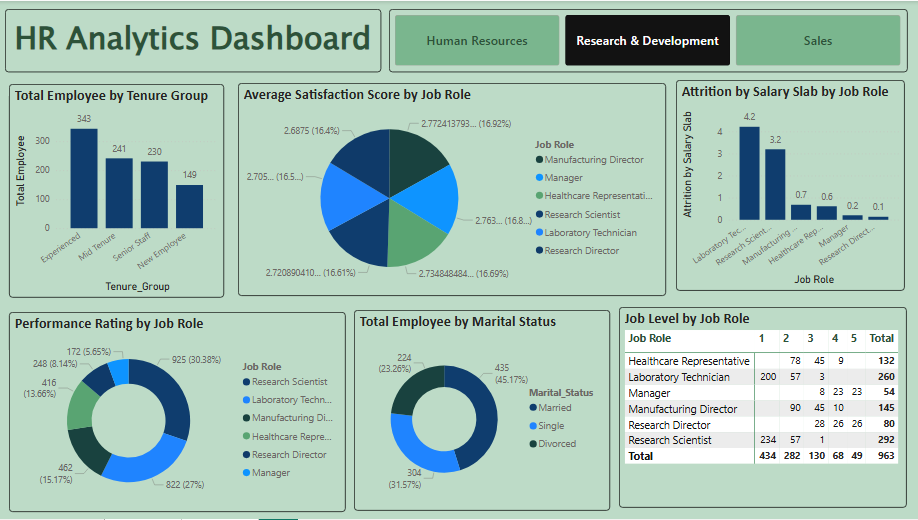

The page's visual inventory and layout, read from the dashboard file:
{"tool":"powerbi","page":{"name":"Page 2","canvas":[1280,720],"ordinal":1},"visuals":[{"type":"textbox","box":[9.7,11.1,522.6,87.6],"z":0},{"type":"clusteredColumnChart","title":"Attrition by Salary Slab by Job Role","fields":{"Category":["HR_Analytics.Job_Role"],"Y":["HR_Analytics.Attrition by Salary Slab"]},"box":[942.4,109.8,318.3,293.3],"z":1000},{"type":"donutChart","title":"Performance Rating by Job Role","fields":{"Category":["HR_Analytics.Job_Role"],"Y":["Sum(HR_Analytics.Performance_Rating)"]},"box":[15.3,432.3,468.4,278],"z":2000},{"type":"pieChart","title":"Average Satisfaction Score by Job  Role","fields":{"Category":["HR_Analytics.Job_Role"],"Y":["HR_Analytics.Average Satisfaction Score"]},"box":[333.6,114,594.9,296.1],"z":3000},{"type":"pivotTable","title":"Job Level by Job  Role","fields":{"Rows":["HR_Analytics.Job_Role"],"Columns":["HR_Analytics.Job_Level"],"Values":["HR_Analytics.Total Employee"]},"box":[863.2,425.3,400.3,279.4],"z":4000},{"type":"clusteredColumnChart","title":"Total Employee by Tenure Group","fields":{"Category":["HR_Analytics.Tenure_Group"],"Y":["HR_Analytics.Total Employee"]},"box":[15.3,115.4,298.8,297.5],"z":6000},{"type":"advancedSlicerVisual","fields":{"Values":["HR_Analytics.Department"]},"box":[543.5,11.1,721.4,87.6],"z":7000},{"type":"donutChart","title":"Total Employee by Marital Status","fields":{"Category":["HR_Analytics.Marital_Status"],"Y":["HR_Analytics.Total Employee"]},"box":[494.8,429.5,355.8,279.4],"z":8000}]}

Visuals, with their boxes in screenshot pixels (x1, y1, x2, y2), scaled from the page's 1280x720 canvas onto the 918x520 screenshot:
textbox: <box>7,8,382,71</box>
"Attrition by Salary Slab by Job Role" clusteredColumnChart: <box>676,79,904,291</box>
"Performance Rating by Job Role" donutChart: <box>11,312,347,513</box>
"Average Satisfaction Score by Job  Role" pieChart: <box>239,82,666,296</box>
"Job Level by Job  Role" pivotTable: <box>619,307,906,509</box>
"Total Employee by Tenure Group" clusteredColumnChart: <box>11,83,225,298</box>
advancedSlicerVisual - HR_Analytics.Department: <box>390,8,907,71</box>
"Total Employee by Marital Status" donutChart: <box>355,310,610,512</box>
